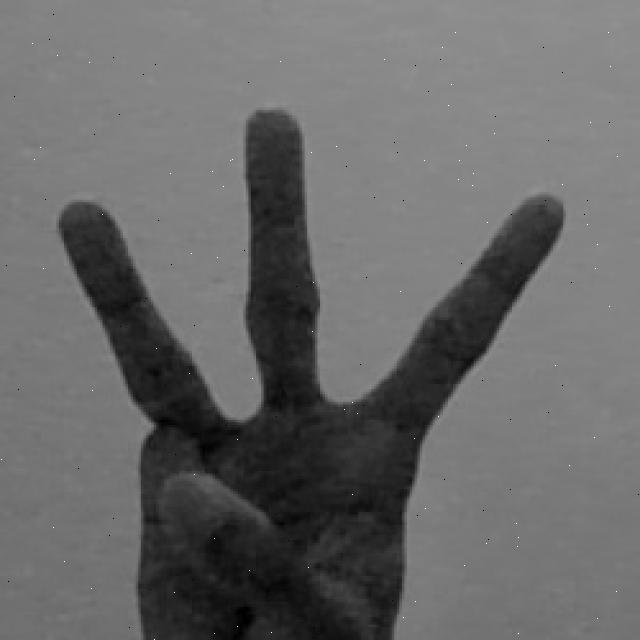W: (61, 101, 570, 640)
